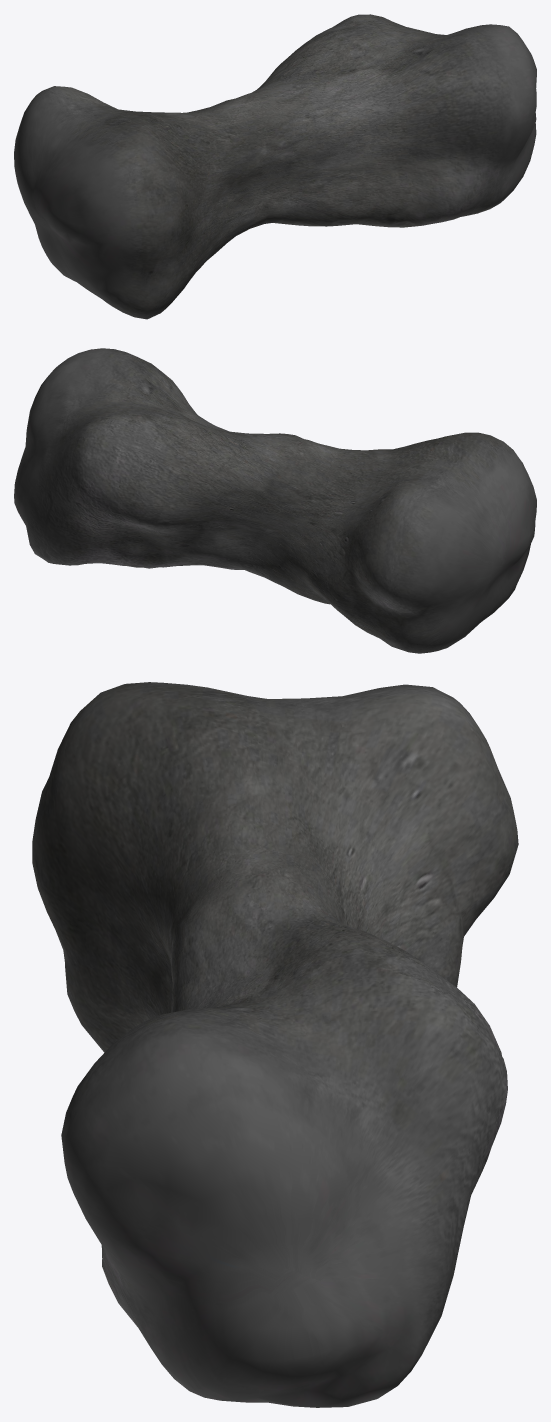
The model's file is kleopatra.glb.
3 renders of one model, top to bottom at view 1: azimuth 30°, elevation 25°; view 2: azimuth 150°, elevation 25°; view 3: azimuth 270°, elevation 25°, orthographic. The views are drawn at different scales.
Visible parts, largest first — view 1: kleopatra; view 2: kleopatra; view 3: kleopatra.
Boxes of the visible parts, x1,y1,x2,y2 form: kleopatra: (14,14,536,319); kleopatra: (14,348,536,653); kleopatra: (32,682,518,1407).
Bounding box in the file's own units: 219 × 82.61 × 94.51.
1 material, 1 textured.
